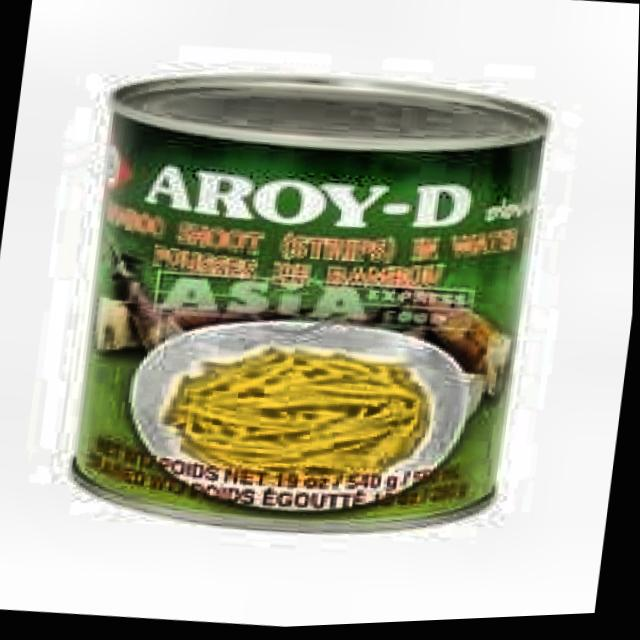Cans: (42, 36, 567, 580)
